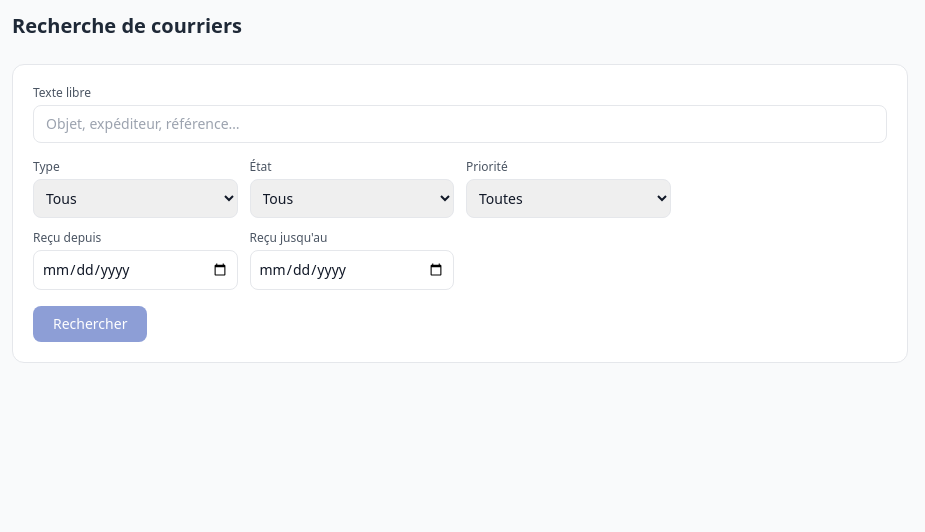
Test case: RecherchePage › affiche le tableau des résultats quand l'API retourne des données
In the field with placeholder "Objet, expéditeur, référence…": (460, 124) x1=33 y1=105 x2=887 y2=143, type "rapport"
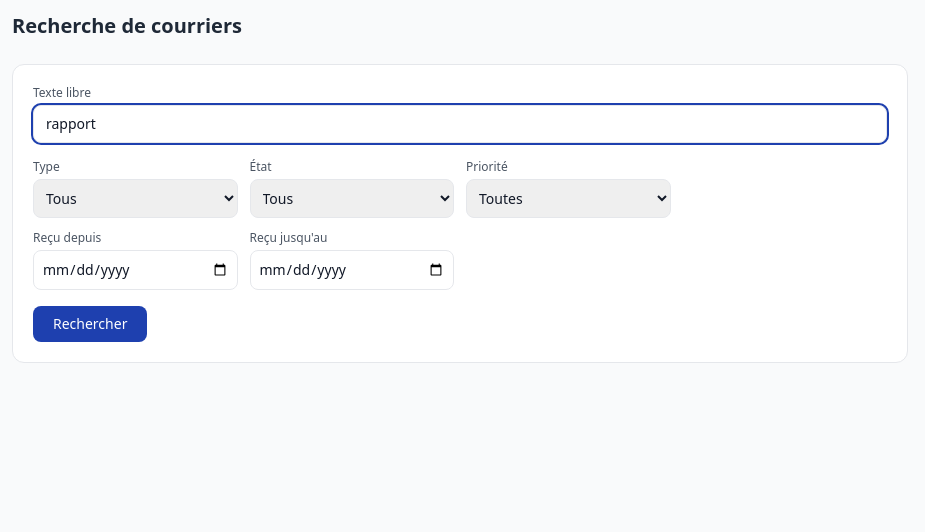
Click the button "Rechercher": (90, 324) x1=33 y1=306 x2=147 y2=342
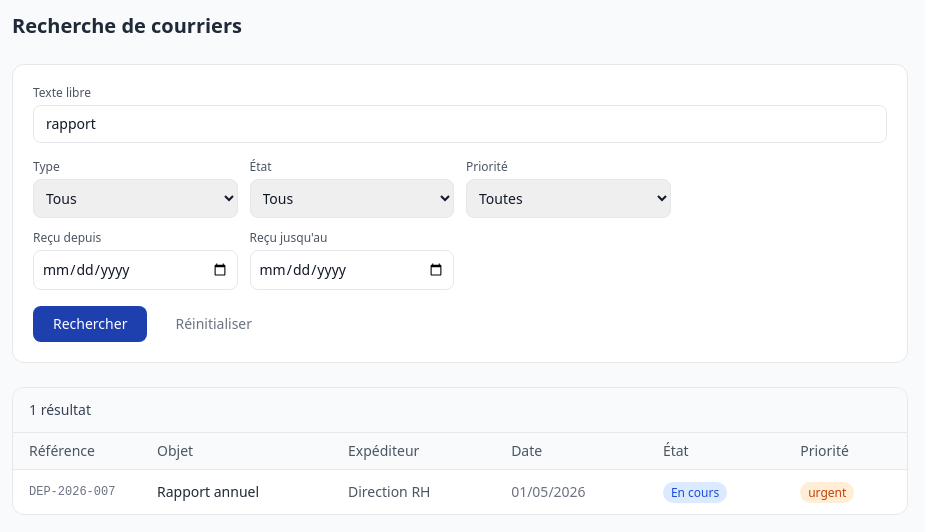
Expected: the text "Rapport annuel" is shown, x1=141 y1=470 x2=332 y2=514
Expected: the text "DEP-2026-007" is shown, x1=13 y1=470 x2=141 y2=514
Expected: the text "Direction RH" is shown, x1=332 y1=470 x2=495 y2=514
